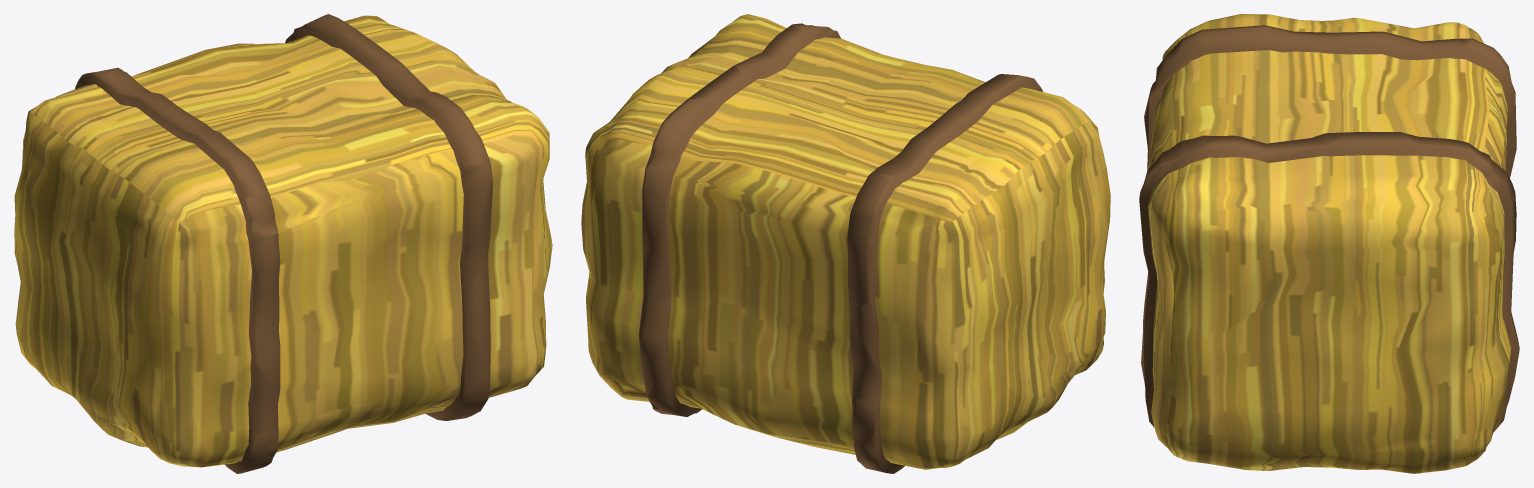
Rendered from hay_bale.glb.
3 renders of one model, left to right at view 1: azimuth 30°, elevation 25°; view 2: azimuth 150°, elevation 25°; view 3: azimuth 270°, elevation 25°, orthographic. The views are drawn at different scales.
Parts seen in each view (by area): view 1: hay_bale; view 2: hay_bale; view 3: hay_bale.
Part boxes in pixels (x1=…): hay_bale: x1=14, y1=14, x2=552, y2=473; hay_bale: x1=581, y1=14, x2=1110, y2=473; hay_bale: x1=1139, y1=14, x2=1519, y2=473.
Size of the model in its own units: 1.65 by 1.22 by 1.31.
Materials: 2 (1 with a texture image).
